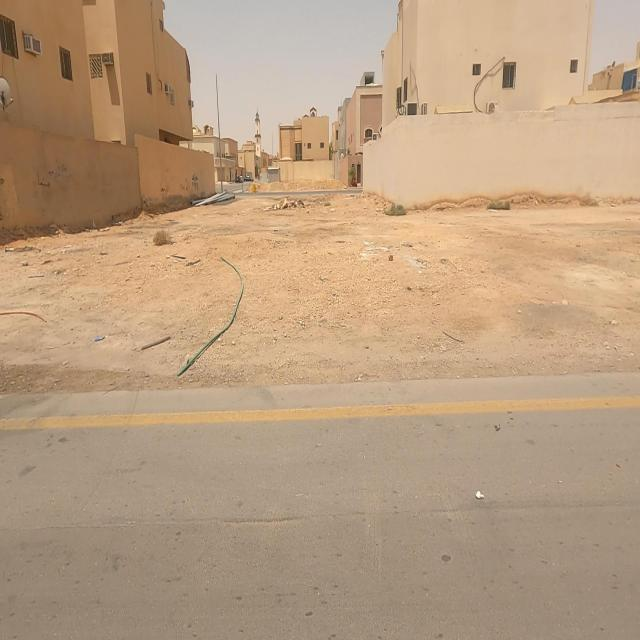debris: (178, 200, 277, 354), (170, 298, 252, 391), (252, 170, 324, 240), (74, 306, 122, 374)
